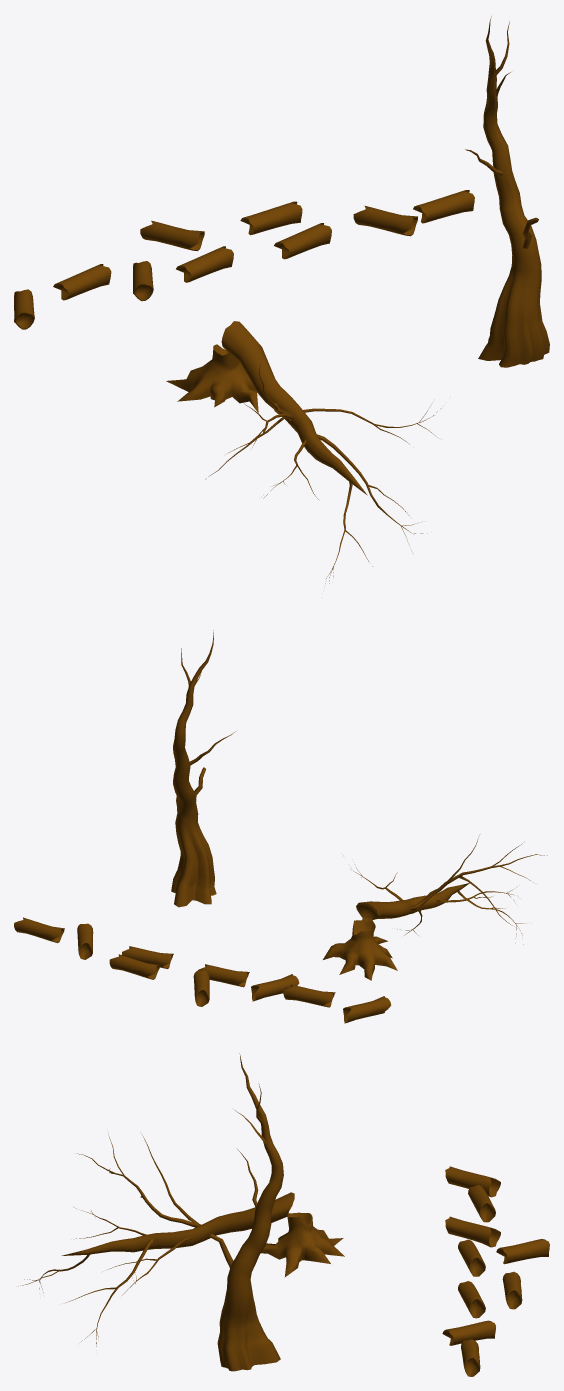
The model's file is SwampTrees.fbx.
3 views of the same model, one above another, from view 1: azimuth 30°, elevation 25°; view 2: azimuth 150°, elevation 25°; view 3: azimuth 270°, elevation 25° (orthographic). The views are drawn at different scales.
Visible parts, largest first — view 1: pasted__pasted__polySurface1609, pasted__polySurface40, pasted__pasted__polySurface32, pasted__pasted__polySurface2417, pasted__pasted__polySurface2415, pasted__pasted__polySurface2418, pasted__pasted__polySurface2416, pasted__pasted__polySurface2419, pasted__pasted__polySurface2421, pasted__pasted__polySurface2420, pasted__pasted__polySurface2422; view 2: pasted__pasted__polySurface1609, pasted__polySurface40, pasted__pasted__polySurface2416, pasted__pasted__polySurface2420, pasted__pasted__polySurface2418, pasted__pasted__polySurface2415, pasted__pasted__polySurface2422, pasted__pasted__polySurface2419, pasted__pasted__polySurface2421, pasted__pasted__polySurface32, pasted__pasted__polySurface2417; view 3: pasted__polySurface40, pasted__pasted__polySurface1609, pasted__pasted__polySurface2422, pasted__pasted__polySurface2420, pasted__pasted__polySurface32, pasted__pasted__polySurface2417, pasted__pasted__polySurface2419, pasted__pasted__polySurface2421, pasted__pasted__polySurface2416, pasted__pasted__polySurface2415, pasted__pasted__polySurface2418.
Boxes of the visible parts, left/top/right/bottom form: pasted__pasted__polySurface1609: left=465, top=16, right=549, bottom=367; pasted__polySurface40: left=166, top=321, right=441, bottom=583; pasted__pasted__polySurface32: left=140, top=220, right=204, bottom=251; pasted__pasted__polySurface2417: left=353, top=206, right=417, bottom=236; pasted__pasted__polySurface2415: left=240, top=201, right=302, bottom=235; pasted__pasted__polySurface2418: left=413, top=190, right=474, bottom=223; pasted__pasted__polySurface2416: left=53, top=264, right=111, bottom=300; pasted__pasted__polySurface2419: left=176, top=246, right=233, bottom=282; pasted__pasted__polySurface2421: left=274, top=223, right=331, bottom=259; pasted__pasted__polySurface2420: left=14, top=289, right=34, bottom=329; pasted__pasted__polySurface2422: left=133, top=261, right=153, bottom=301; pasted__pasted__polySurface1609: left=171, top=630, right=235, bottom=907; pasted__polySurface40: left=323, top=835, right=547, bottom=980; pasted__pasted__polySurface2416: left=283, top=984, right=335, bottom=1007; pasted__pasted__polySurface2420: left=343, top=996, right=391, bottom=1023; pasted__pasted__polySurface2418: left=14, top=917, right=64, bottom=943; pasted__pasted__polySurface2415: left=109, top=954, right=160, bottom=979; pasted__pasted__polySurface2422: left=251, top=974, right=299, bottom=1001; pasted__pasted__polySurface2419: left=197, top=964, right=249, bottom=987; pasted__pasted__polySurface2421: left=122, top=946, right=173, bottom=968; pasted__pasted__polySurface32: left=193, top=970, right=209, bottom=1006; pasted__pasted__polySurface2417: left=77, top=923, right=93, bottom=959; pasted__polySurface40: left=18, top=1135, right=344, bottom=1346; pasted__pasted__polySurface1609: left=209, top=1053, right=283, bottom=1371; pasted__pasted__polySurface2422: left=445, top=1216, right=500, bottom=1247; pasted__pasted__polySurface2420: left=445, top=1166, right=500, bottom=1197; pasted__pasted__polySurface32: left=496, top=1239, right=549, bottom=1264; pasted__pasted__polySurface2417: left=442, top=1320, right=495, bottom=1345; pasted__pasted__polySurface2419: left=458, top=1239, right=485, bottom=1276; pasted__pasted__polySurface2421: left=458, top=1281, right=485, bottom=1318; pasted__pasted__polySurface2416: left=468, top=1185, right=495, bottom=1222; pasted__pasted__polySurface2415: left=502, top=1271, right=522, bottom=1309; pasted__pasted__polySurface2418: left=461, top=1339, right=480, bottom=1376.
Bounding box in the file's own units: 43.27 × 37.86 × 49.67.
